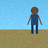person: (27, 7, 42, 34)
